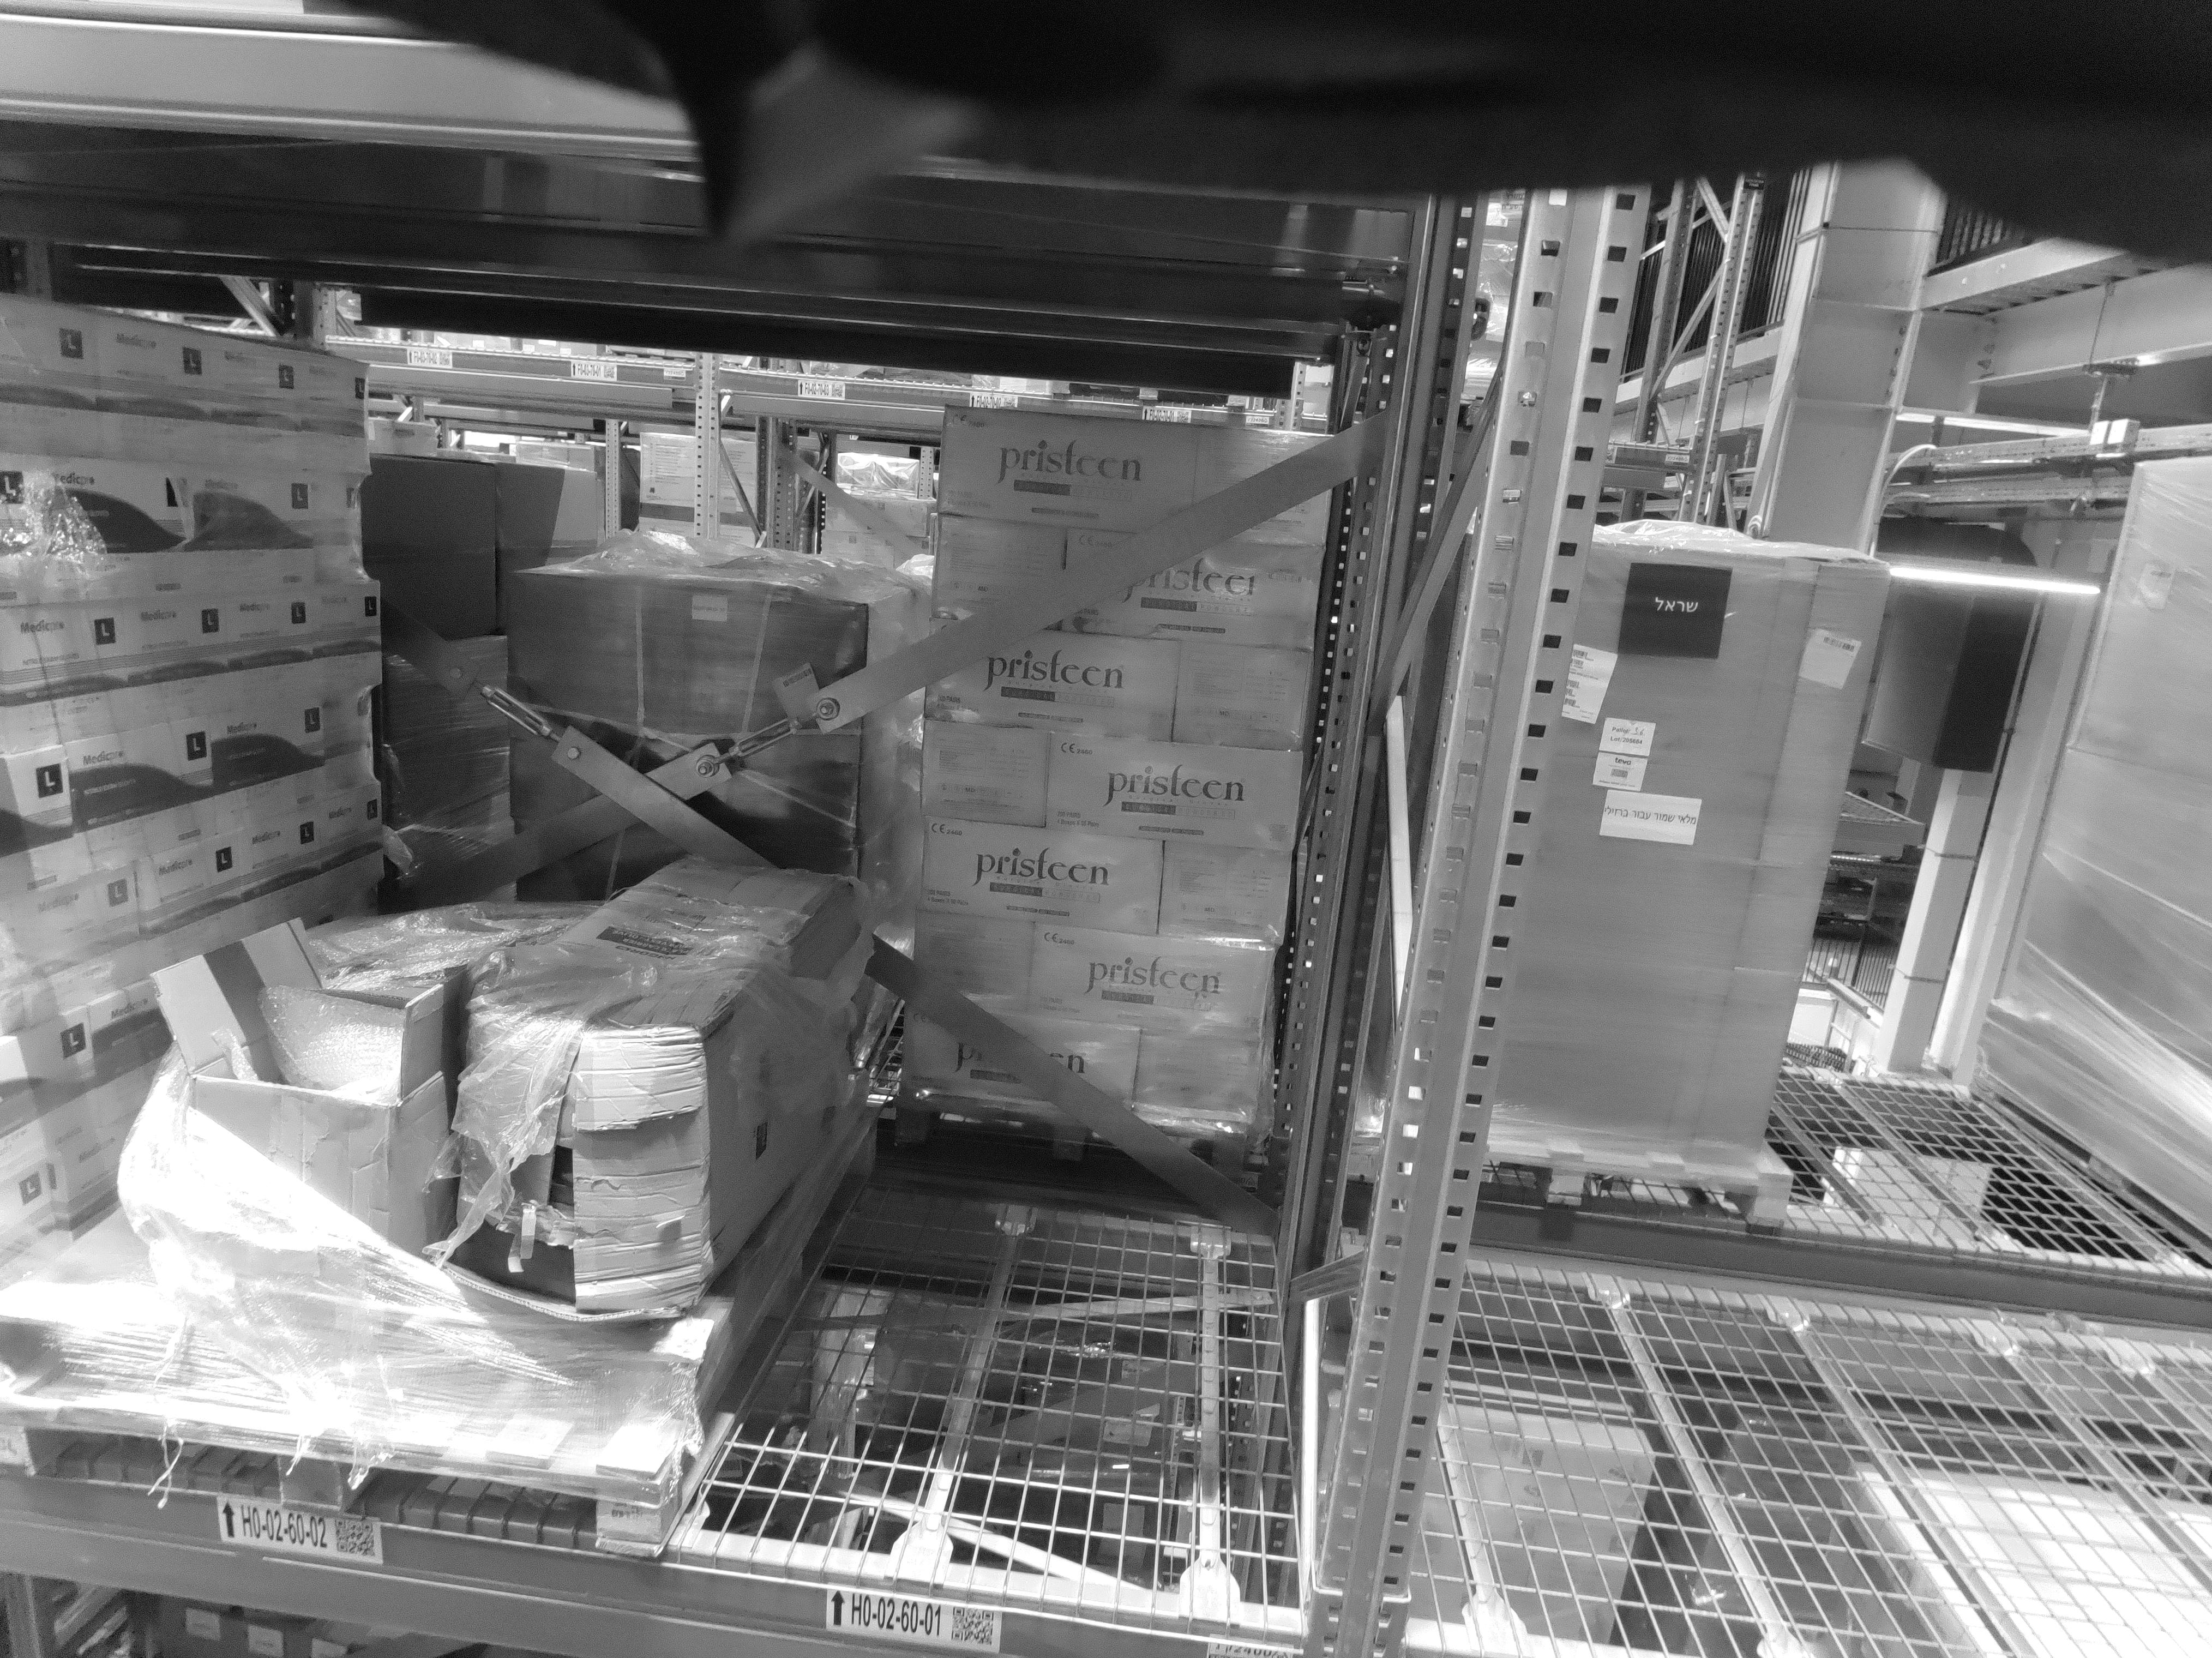empty-shelf: (906, 341, 1245, 1500), (2000, 319, 2212, 1557), (1667, 265, 1811, 1580)
